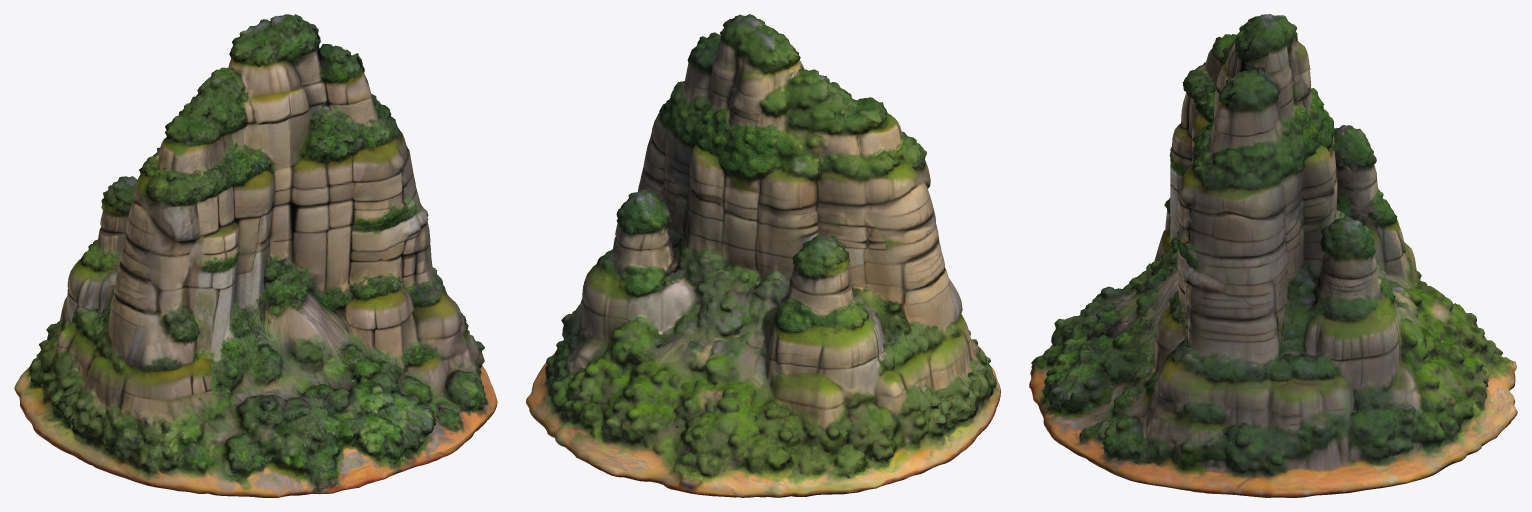
File: Majestic_Rock_Formati.glb
3 views of the same model, side by side, from view 1: azimuth 30°, elevation 25°; view 2: azimuth 150°, elevation 25°; view 3: azimuth 270°, elevation 25° (orthographic). The views are drawn at different scales.
Parts seen in each view (by area): view 1: Majestic_Rock_Formati; view 2: Majestic_Rock_Formati; view 3: Majestic_Rock_Formati.
Boxes of the visible parts, x1=… form: Majestic_Rock_Formati: x1=14, y1=14, x2=497, y2=497; Majestic_Rock_Formati: x1=526, y1=14, x2=1000, y2=497; Majestic_Rock_Formati: x1=1029, y1=14, x2=1517, y2=497.
Size of the model in its own units: 1.9 by 1.69 by 1.91.
Materials: 1 (1 with a texture image).
